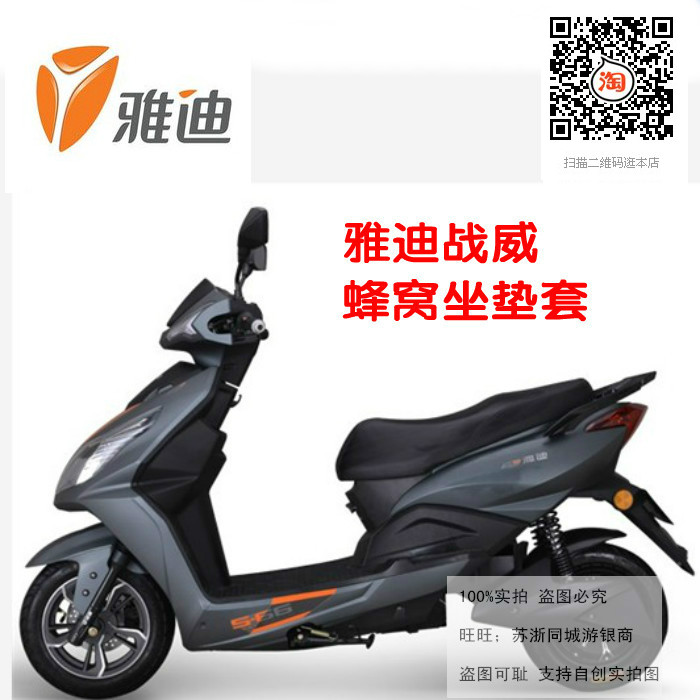电动车: (19, 205, 698, 700)
